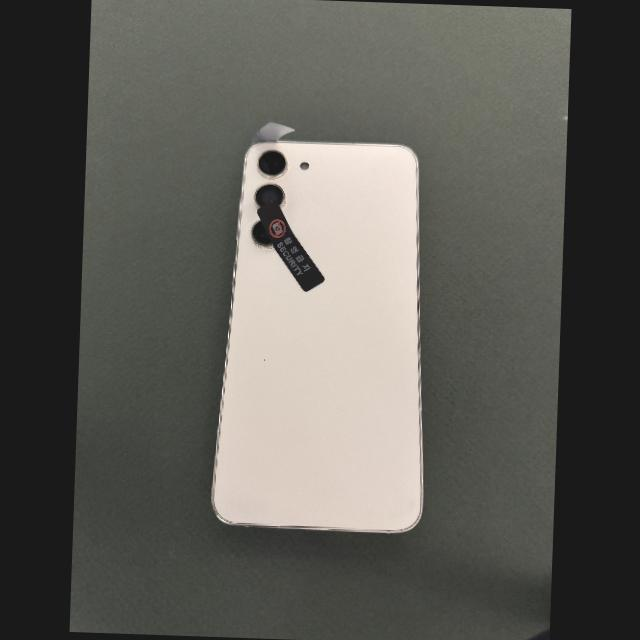lens: (258, 151, 287, 178), (254, 184, 284, 208), (251, 220, 272, 247)
phone: (209, 141, 422, 533)
sticker: (255, 201, 324, 292), (248, 122, 294, 148)
